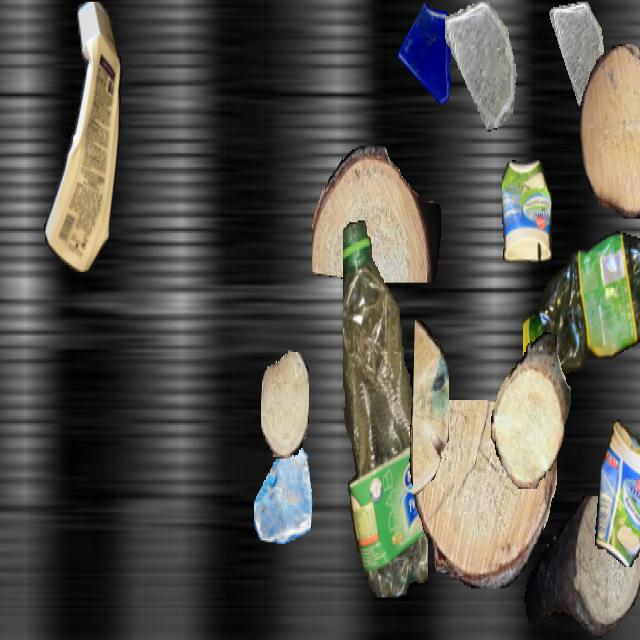glass: (445, 2, 517, 130), (397, 1, 461, 116), (254, 439, 312, 542), (549, 2, 607, 105), (634, 134, 640, 294)
plastic: (343, 218, 427, 596), (38, 2, 126, 272), (523, 224, 640, 388), (593, 420, 640, 566), (502, 160, 552, 263)
wood: (409, 400, 557, 588), (312, 146, 440, 281), (523, 496, 640, 638), (491, 332, 571, 489), (580, 45, 640, 218), (413, 320, 449, 494), (261, 350, 309, 457)
